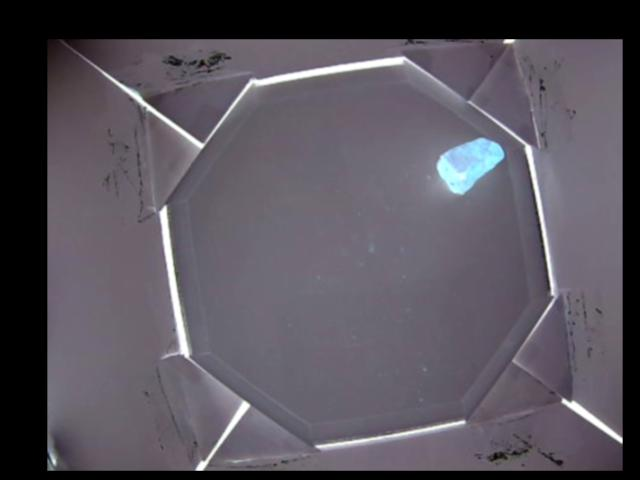Brisk: (437, 136, 506, 192)
